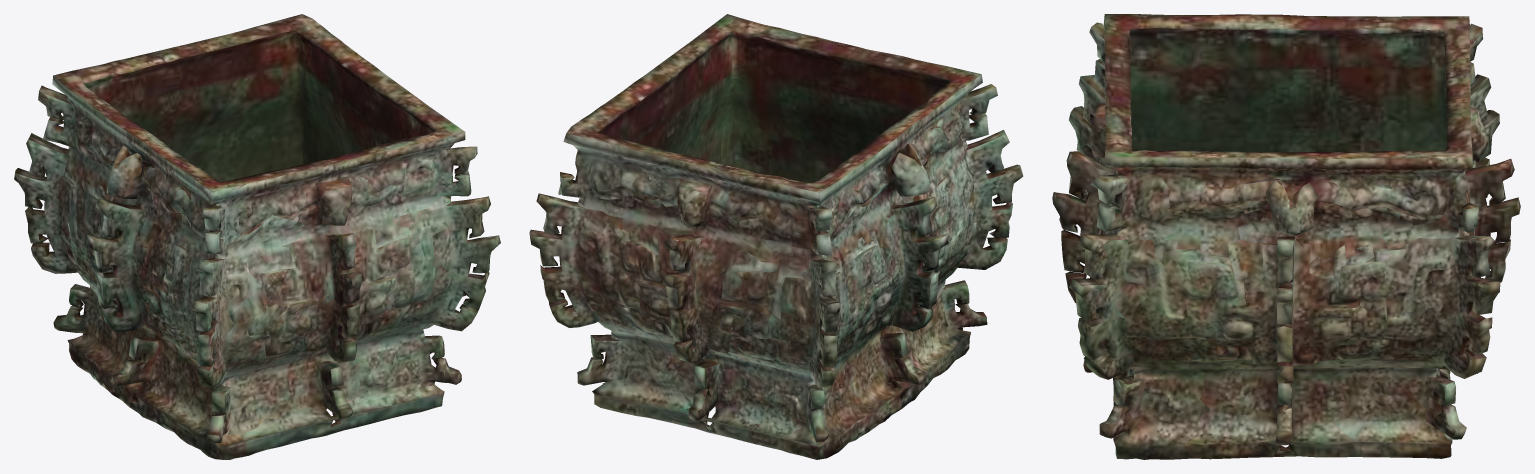
3 renders of one model, left to right at view 1: azimuth 30°, elevation 25°; view 2: azimuth 150°, elevation 25°; view 3: azimuth 270°, elevation 25°, orthographic. The views are drawn at different scales.
Size of the model in its own units: 233 by 185 by 248.
Materials: 1 (1 with a texture image).
